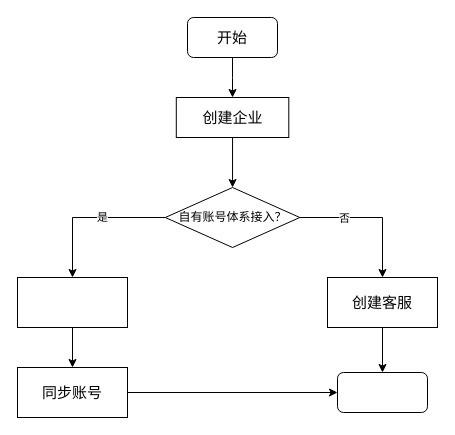
Some shapes in this 455 by 435 pixel diagram are drawn without their labels. Here are the shapes that lost their labels. From the top down, the box of each, then its label:
(16, 276, 128, 328): 录入OAuth2接口信息
(336, 372, 428, 412): 结束
